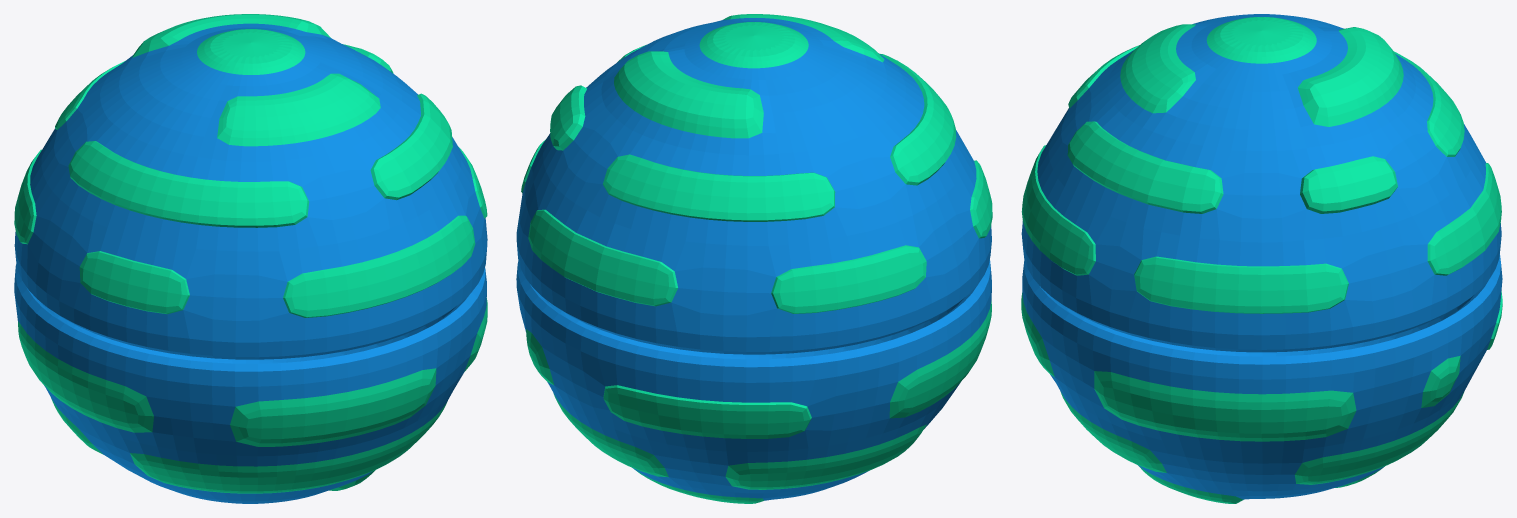
Rendered from GhostBall.fbx.
3 renders of one model, left to right at view 1: azimuth 30°, elevation 25°; view 2: azimuth 150°, elevation 25°; view 3: azimuth 270°, elevation 25°, orthographic.
Visible parts, largest first — view 1: Sphere.001; view 2: Sphere.001; view 3: Sphere.001.
Part boxes in pixels (box(x1,y1,x2,y2)): Sphere.001: box(14, 14, 487, 503); Sphere.001: box(516, 14, 992, 503); Sphere.001: box(1021, 14, 1502, 503).
Bounding box in the file's own units: 19.7 × 20.18 × 19.7.
